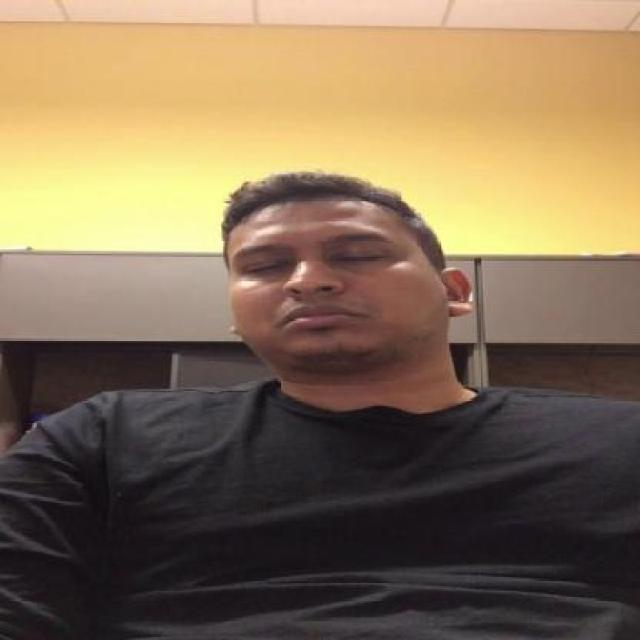drowsy: (333, 250, 395, 267), (244, 258, 290, 278)
